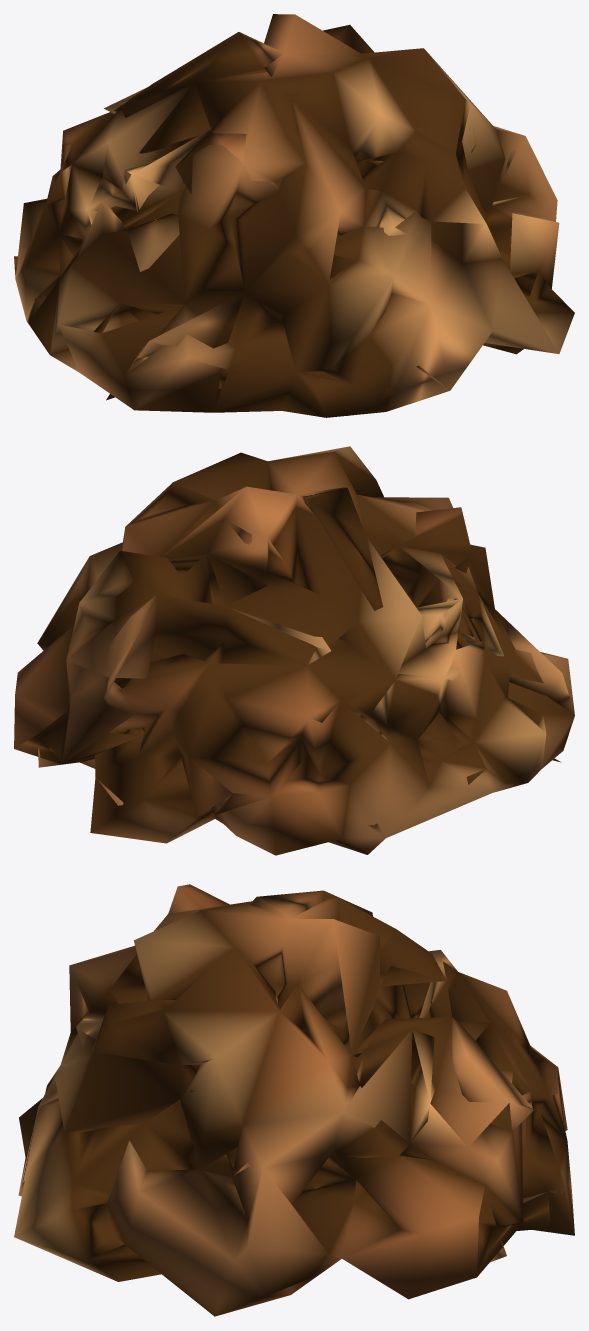
File: gen3d-log-pile-lod0.glb
3 views of the same model, one above another, from view 1: azimuth 30°, elevation 25°; view 2: azimuth 150°, elevation 25°; view 3: azimuth 270°, elevation 25° (orthographic). The views are drawn at different scales.
Visible parts, largest first — view 1: part_0; view 2: part_0; view 3: part_0.
Part boxes in pixels (x1,y1,x2,y2): part_0: (14, 14, 574, 417); part_0: (14, 446, 574, 855); part_0: (14, 884, 574, 1316).
Bounding box in the file's own units: 1.81 × 1 × 1.7.
